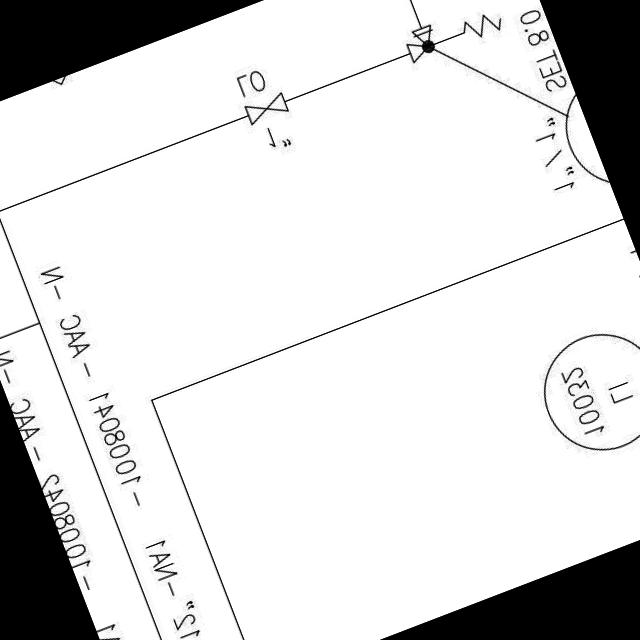RPV: (395, 0, 512, 70), (240, 85, 294, 126)
